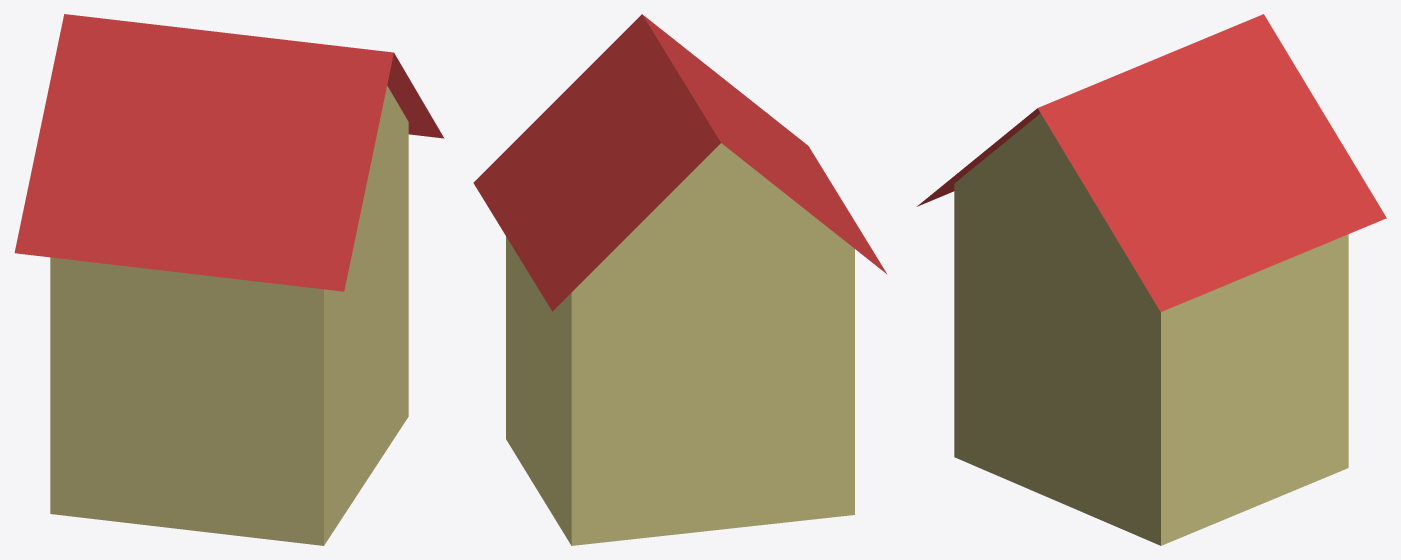
3 views of the same model, side by side, from view 1: azimuth 30°, elevation 25°; view 2: azimuth 150°, elevation 25°; view 3: azimuth 270°, elevation 25° (orthographic). The views are drawn at different scales.
Bounding box in the file's own units: 13.11 × 13.1 × 12.32.
